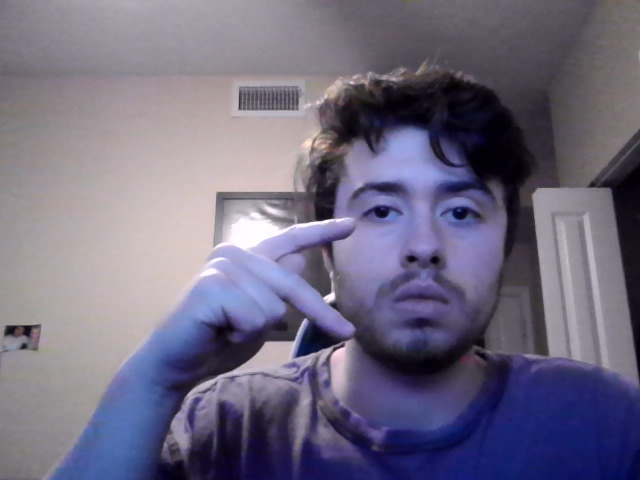p: (141, 216, 359, 400)
